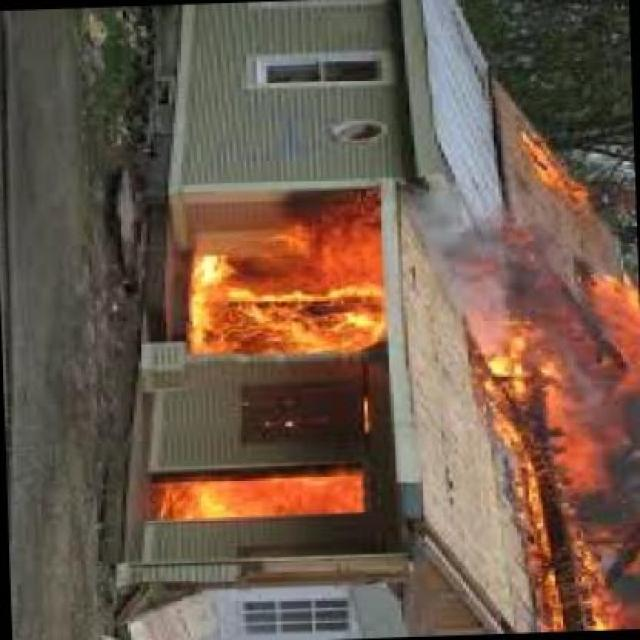Fire: (456, 239, 640, 623), (160, 186, 386, 375), (153, 460, 379, 527), (514, 133, 606, 226)
